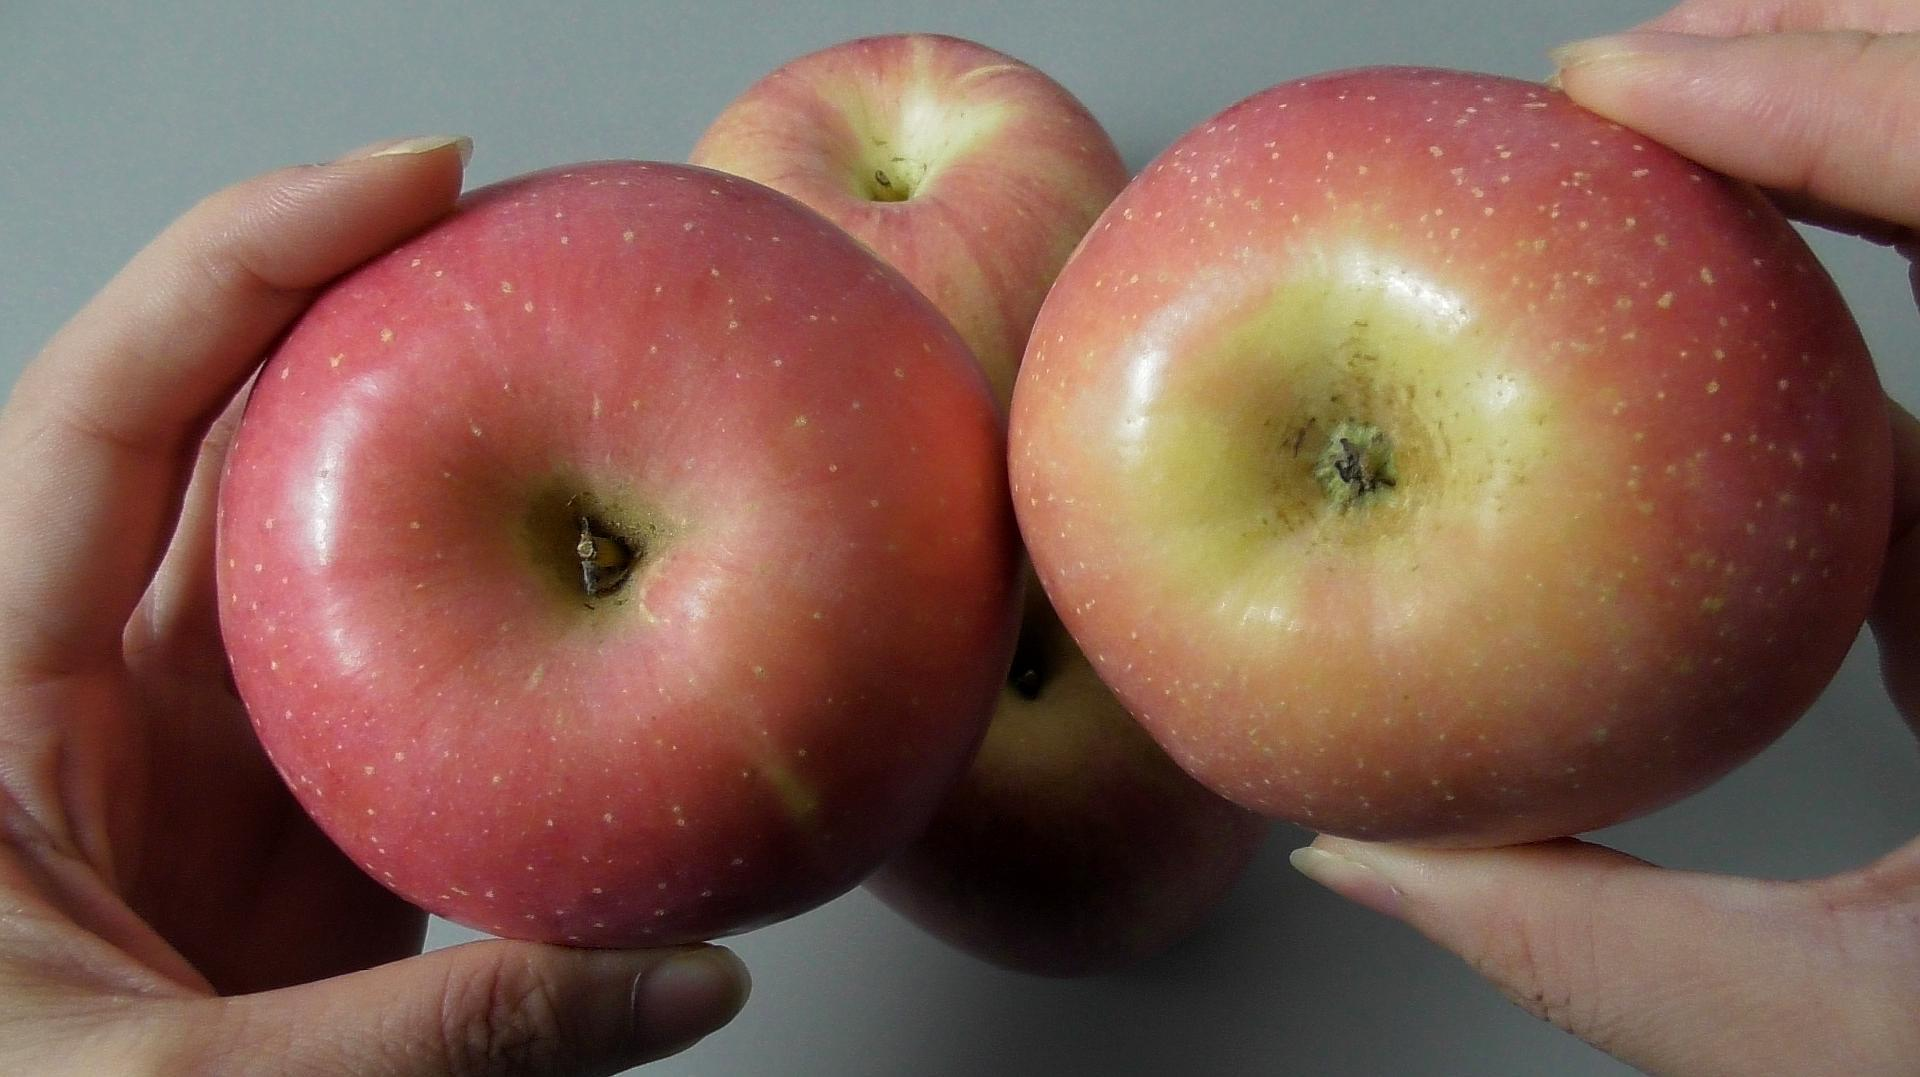apple: (1000, 61, 1875, 849), (183, 163, 1026, 950)
